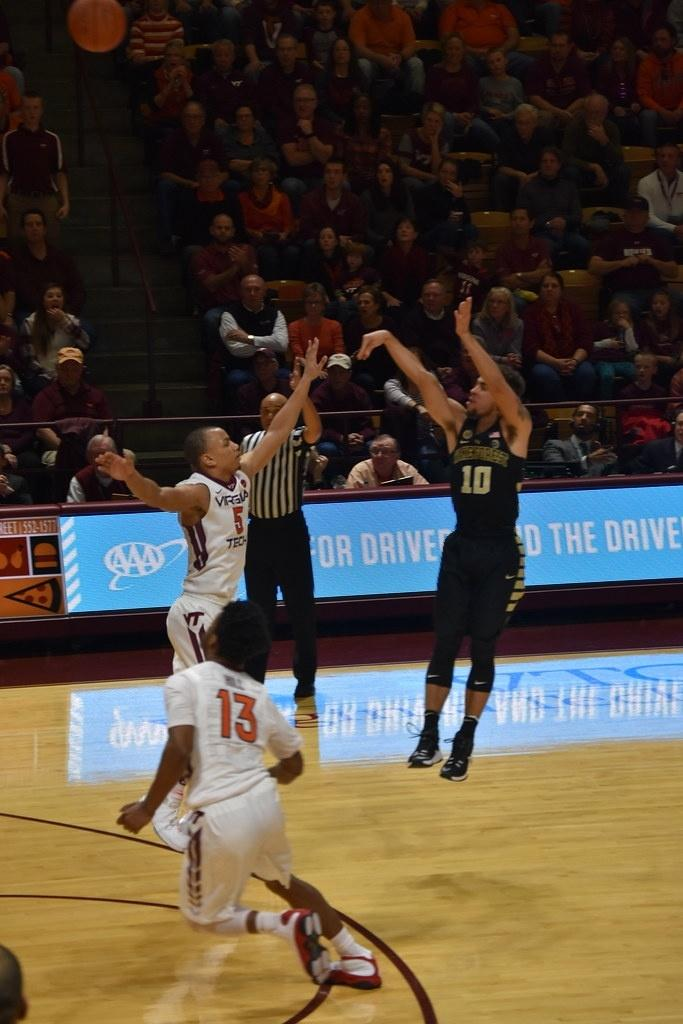basketball-player: (80, 324, 336, 850), (94, 572, 390, 997), (354, 294, 534, 782)
